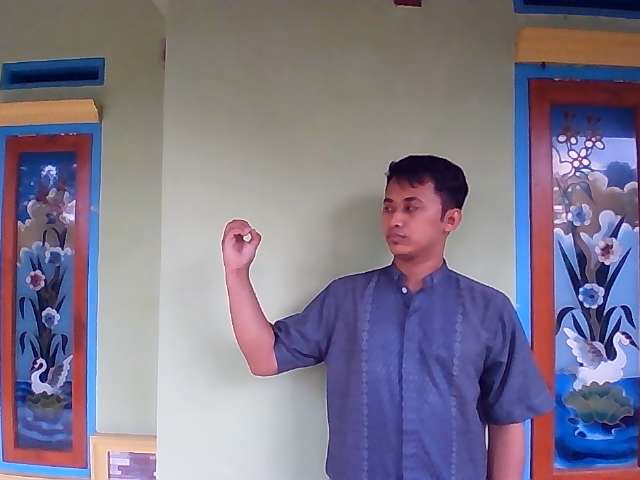O: (217, 218, 264, 276)
